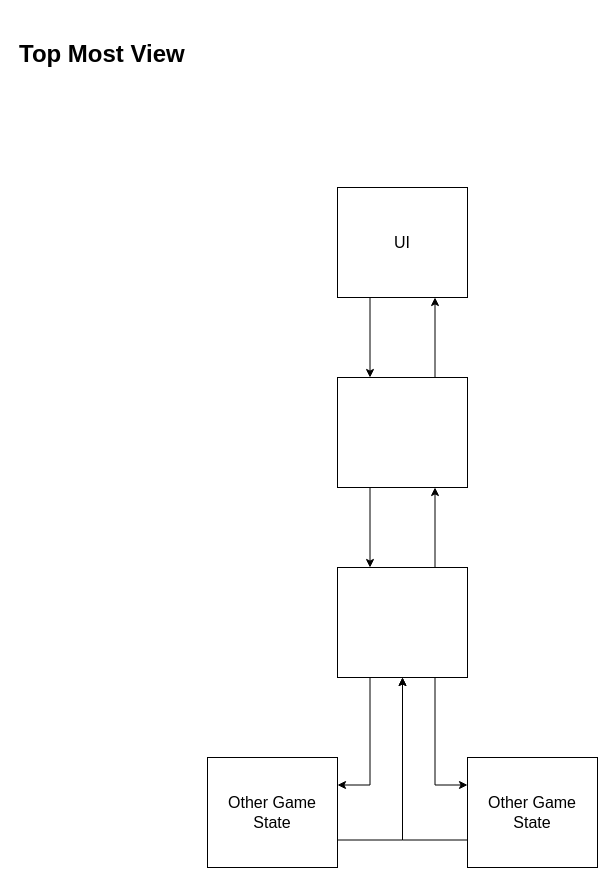
The diagram is 615 pixels wide and 885 high, and some of its shapes have lost their labels. The centre of each missing label's shape, as x and y in pixels:
"Game Server" belongs at (x=402, y=622).
"Local Game State" belongs at (x=402, y=432).
